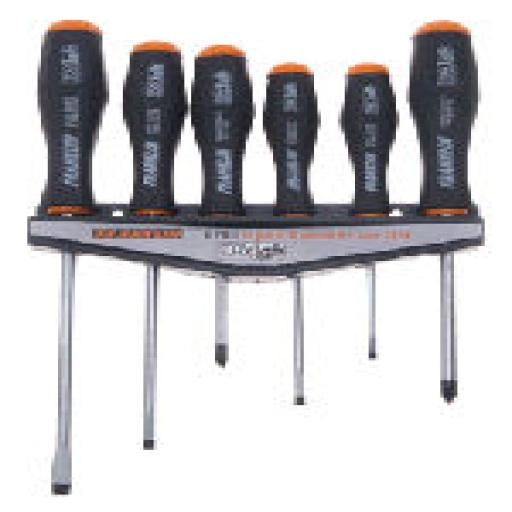screwdriver: (36, 19, 104, 495), (407, 21, 481, 405), (122, 41, 188, 450), (191, 44, 254, 368), (262, 60, 321, 404), (339, 63, 398, 358)
